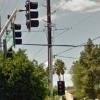Traffic light: (7, 2, 45, 54)
